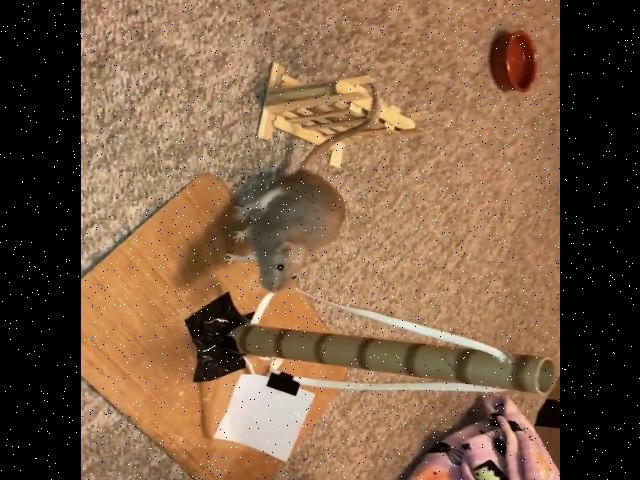Tikus: (220, 158, 350, 296)
